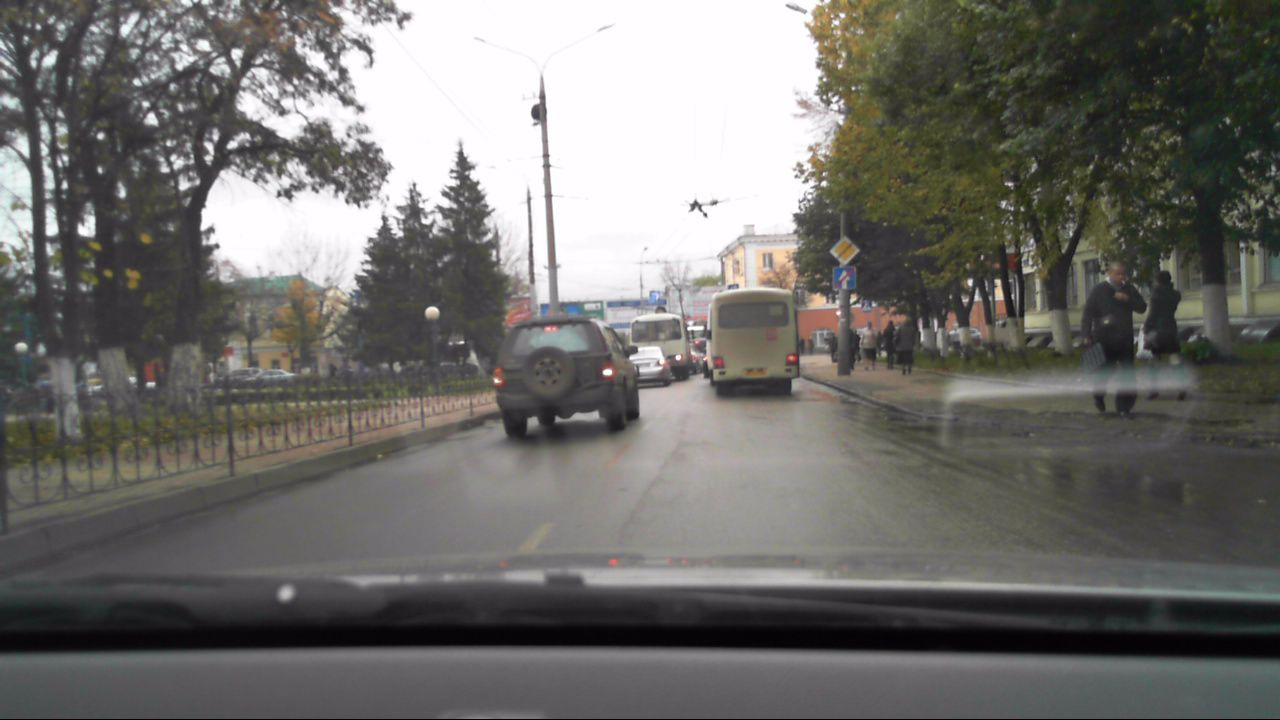main road: (829, 236, 860, 265)
